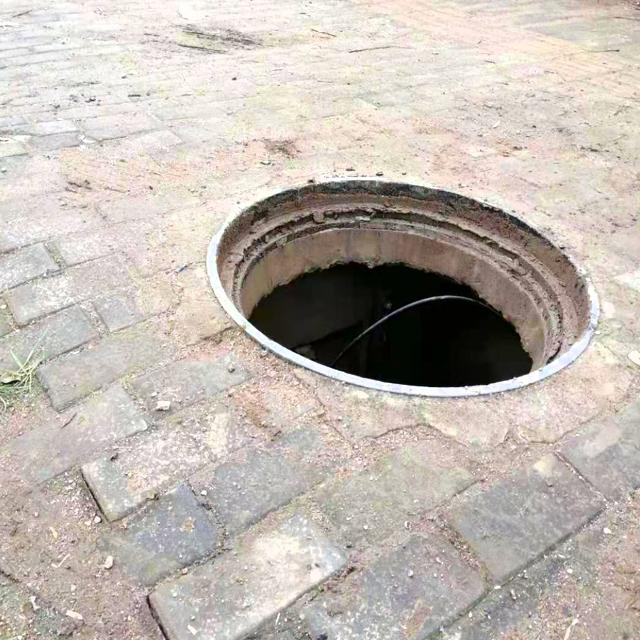lose: (205, 173, 598, 394)
